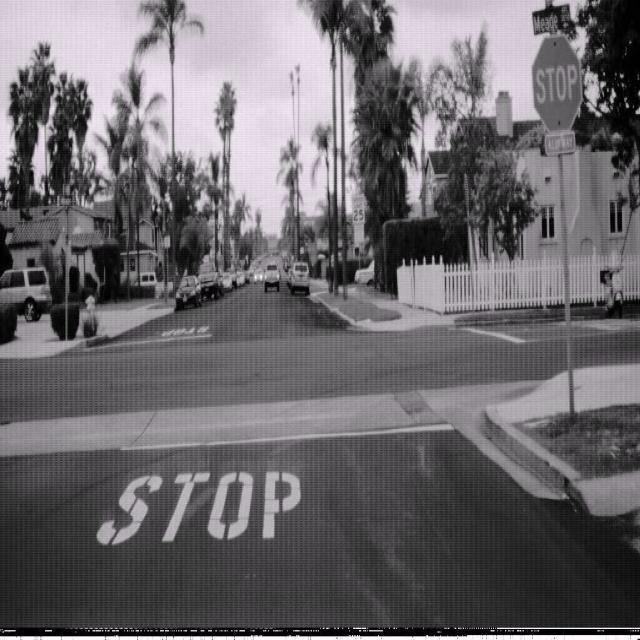stop_sign: (530, 33, 582, 135)
